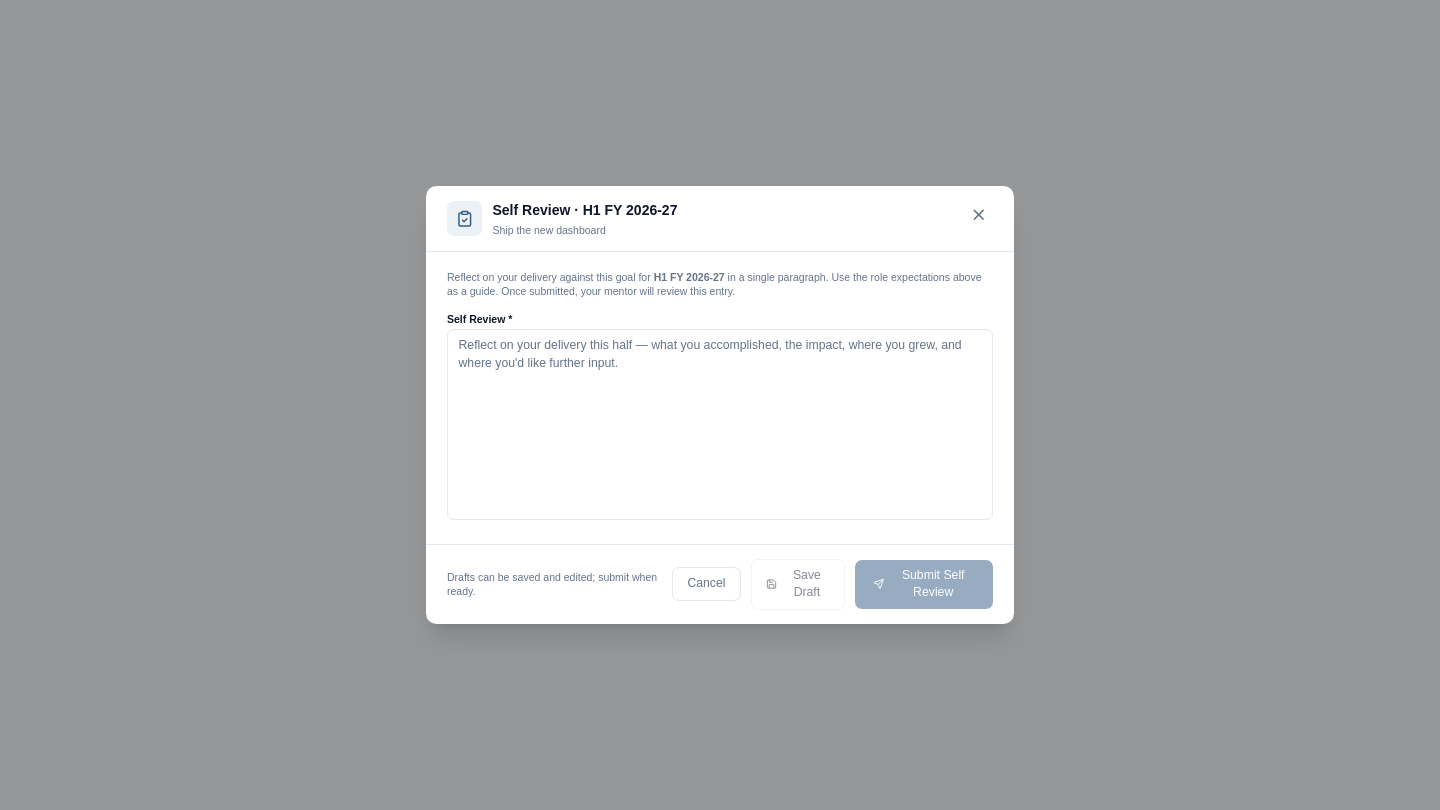
Scenario: GoalSelfReviewModal — Save Draft gate › enables Save Draft once the first character is typed
Expected: the button "Save Draft" is disabled, [751,559,845,610]
In the text box with placeholder "Reflect on your delivery this half": (720, 425) [447,329,993,520], type "D"
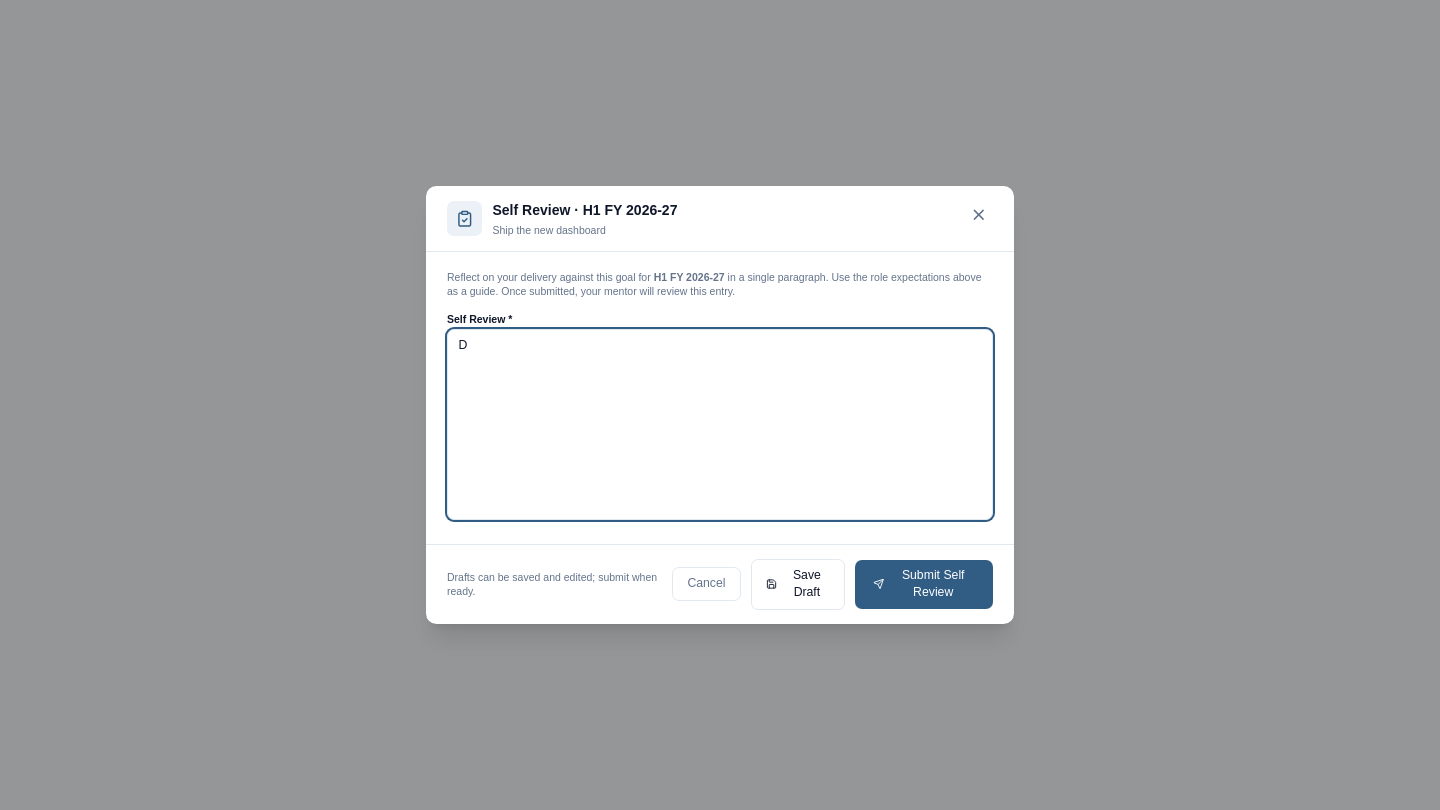
Result: the button "Save Draft" is enabled at [751,559,845,610]
